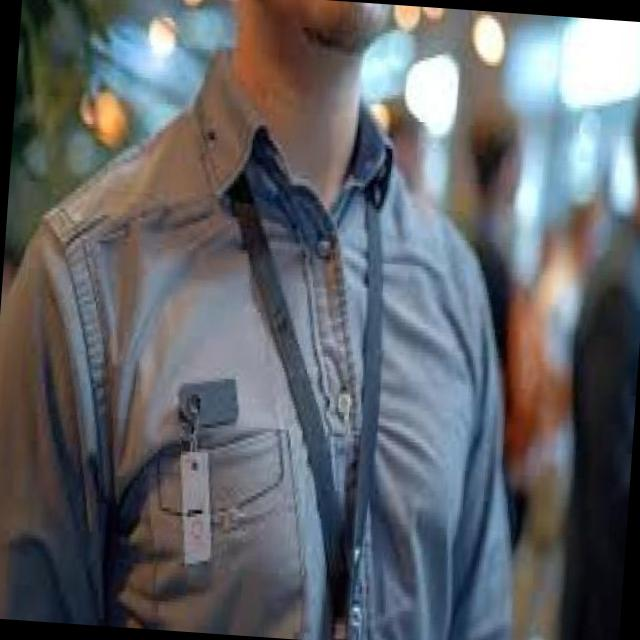id_card: (217, 147, 398, 640)
